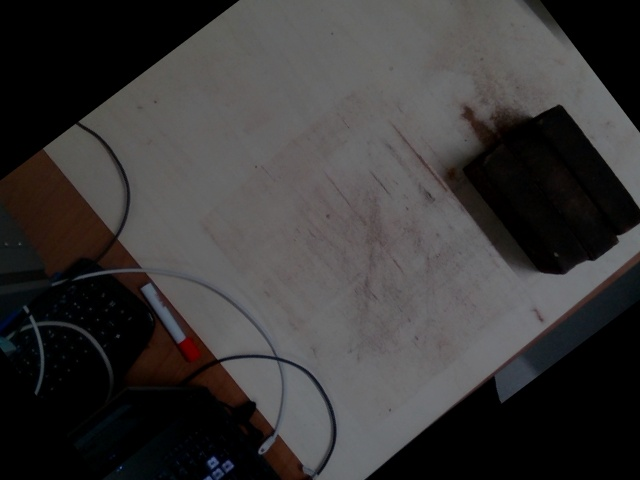brick-side: (508, 127, 618, 258), (480, 143, 589, 275), (537, 104, 639, 236)
